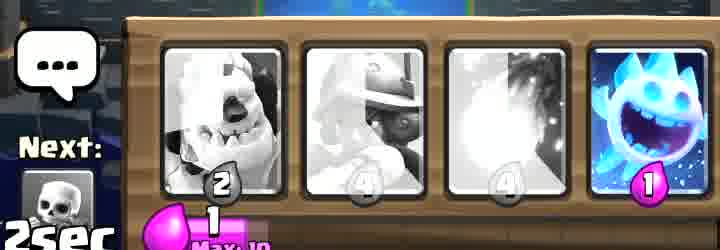ice-spirit: (595, 46, 711, 200)
